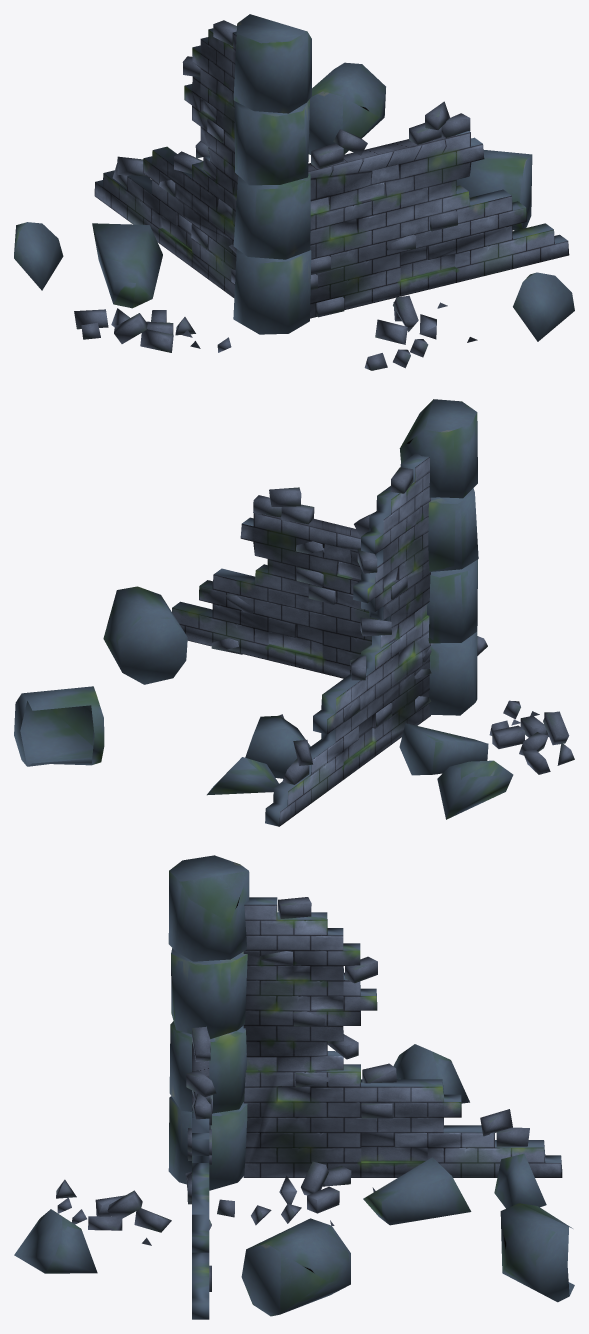
File: ruin_0_1.fbx
The picture shows the model from 3 angles, top to bottom: view 1: azimuth 30°, elevation 25°; view 2: azimuth 150°, elevation 25°; view 3: azimuth 270°, elevation 25°; orthographic projection. The views are drawn at different scales.
Visible parts, largest first — view 1: Walls12, Pillars12, Bricks12; view 2: Walls12, Pillars12, Bricks12; view 3: Pillars12, Walls12, Bricks12.
Boxes of the visible parts, x1,y1,x2,y2 form: Walls12: (94,28,569,318); Pillars12: (14,14,574,341); Bricks12: (74,20,477,370); Walls12: (172,453,430,826); Pillars12: (14,399,513,819); Bricks12: (211,467,574,784); Pillars12: (14,855,574,1316); Walls12: (192,897,562,1319); Bricks12: (56,897,529,1291).
Size of the model in its own units: 329 by 206 by 335.
